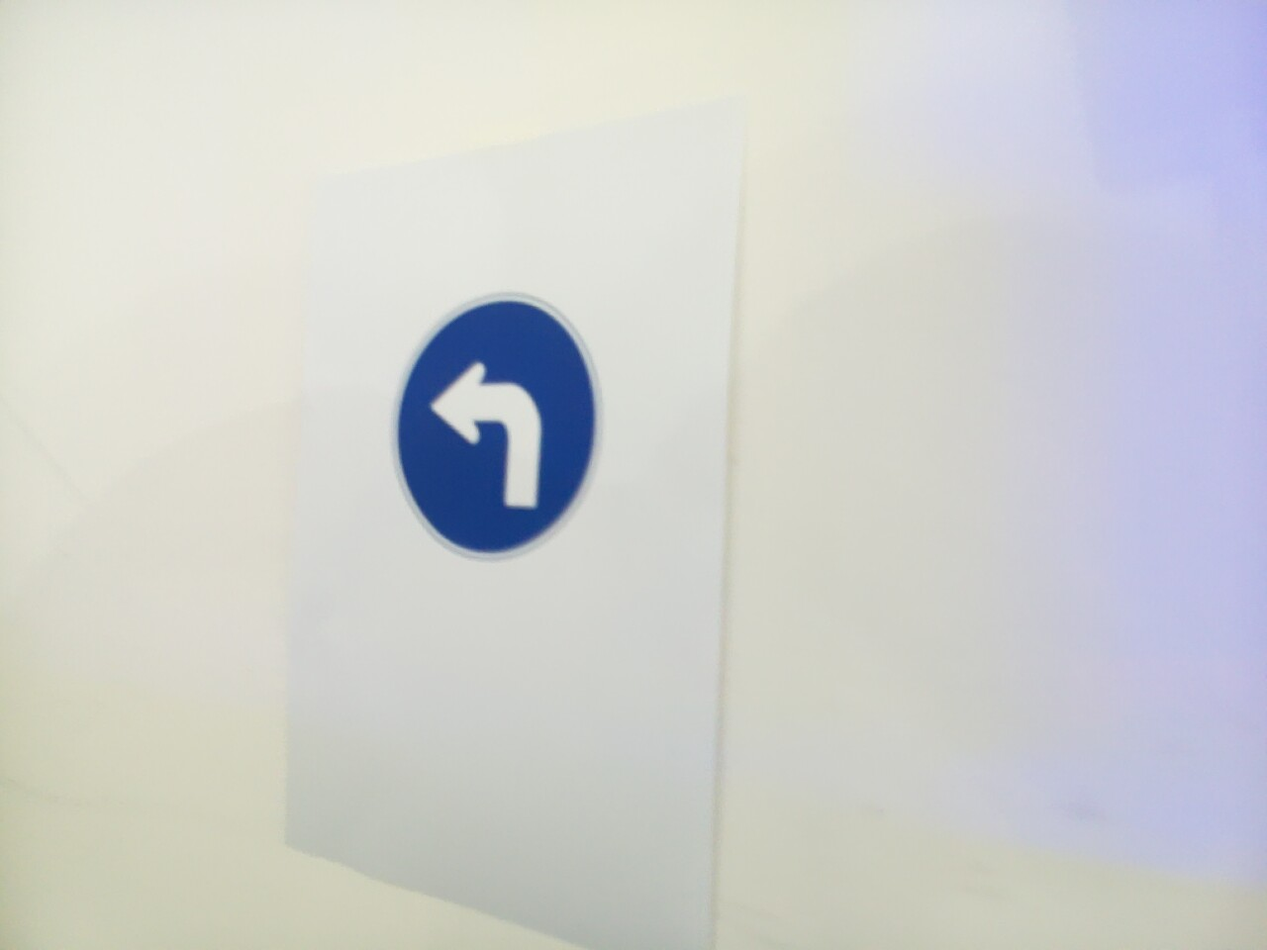left_turn: (390, 292, 603, 562)
